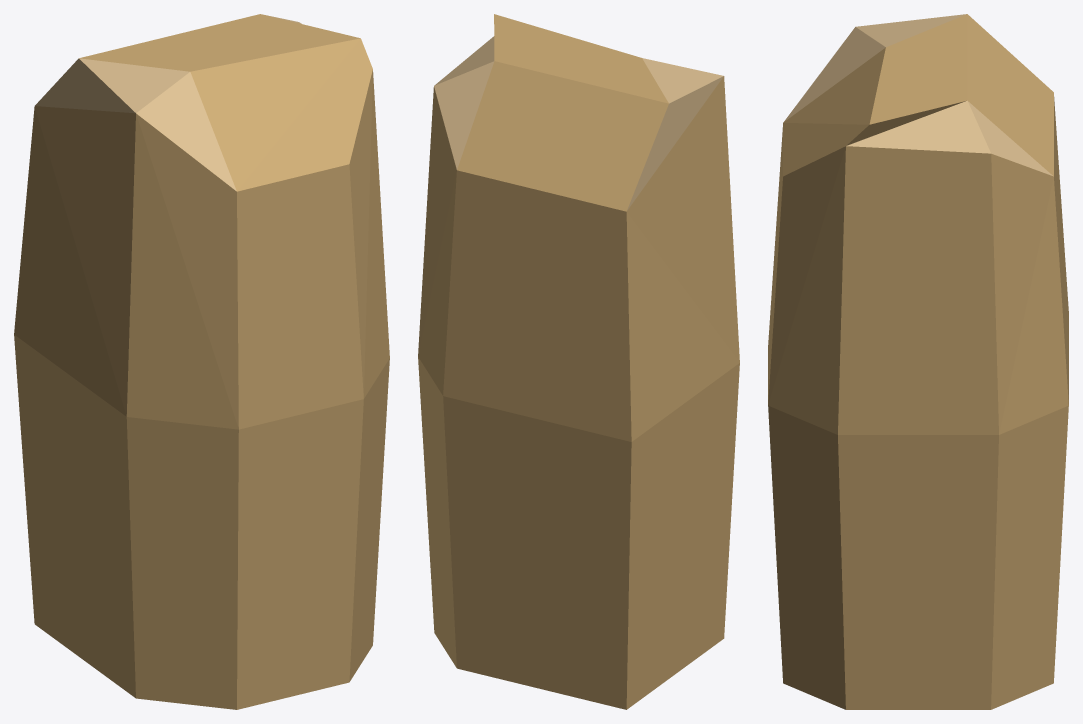
The model's file is desert_rock_17.fbx.
3 views of the same model, side by side, from view 1: azimuth 30°, elevation 25°; view 2: azimuth 150°, elevation 25°; view 3: azimuth 270°, elevation 25° (orthographic). The views are drawn at different scales.
Visible parts, largest first — view 1: desert_rock_17; view 2: desert_rock_17; view 3: desert_rock_17.
Part boxes in pixels (x1,y1,x2,y2): desert_rock_17: [14, 14, 389, 709]; desert_rock_17: [418, 14, 739, 709]; desert_rock_17: [768, 14, 1068, 709].
Bounding box in the file's own units: 98.56 × 219 × 102.
